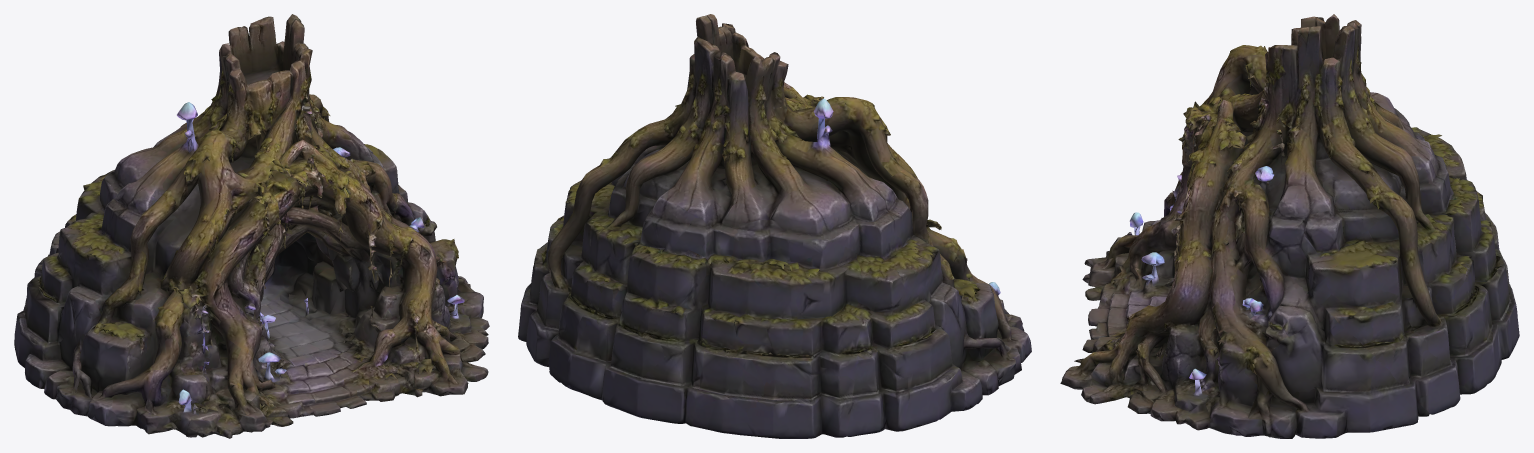
File: hollow_gate_tree.glb
3 views of the same model, side by side, from view 1: azimuth 30°, elevation 25°; view 2: azimuth 150°, elevation 25°; view 3: azimuth 270°, elevation 25° (orthographic). The views are drawn at different scales.
Visible parts, largest first — view 1: tripo_node_b5c3e4f7-1222-4531-b11a-30f7c775b769; view 2: tripo_node_b5c3e4f7-1222-4531-b11a-30f7c775b769; view 3: tripo_node_b5c3e4f7-1222-4531-b11a-30f7c775b769.
Part boxes in pixels (x1,y1,x2,y2): tripo_node_b5c3e4f7-1222-4531-b11a-30f7c775b769: (14,14,489,438); tripo_node_b5c3e4f7-1222-4531-b11a-30f7c775b769: (518,14,1031,438); tripo_node_b5c3e4f7-1222-4531-b11a-30f7c775b769: (1060,14,1519,438).
Size of the model in its own units: 0.9765 by 0.6754 by 0.8512.
Materials: 1 (1 with a texture image).
